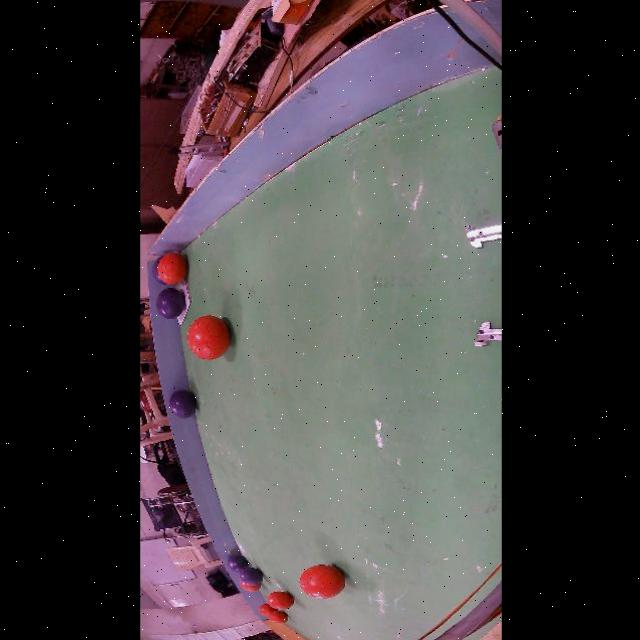P: (156, 287, 185, 319), (168, 390, 196, 418), (239, 568, 263, 585), (151, 256, 165, 285), (226, 555, 248, 572)
R: (187, 315, 230, 360), (299, 565, 344, 599), (157, 252, 186, 285), (266, 592, 293, 609), (268, 609, 288, 623), (239, 580, 260, 592), (258, 603, 273, 616)
